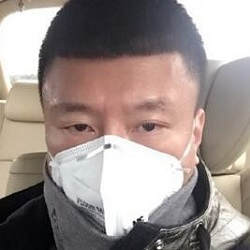mask: (54, 134, 185, 238)
